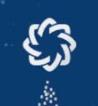ABB: (20, 15, 78, 72)
